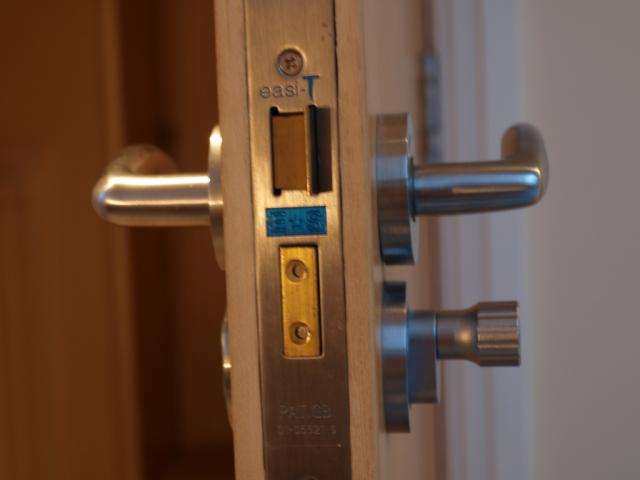Door-handle: (376, 111, 550, 266), (91, 124, 223, 274)
